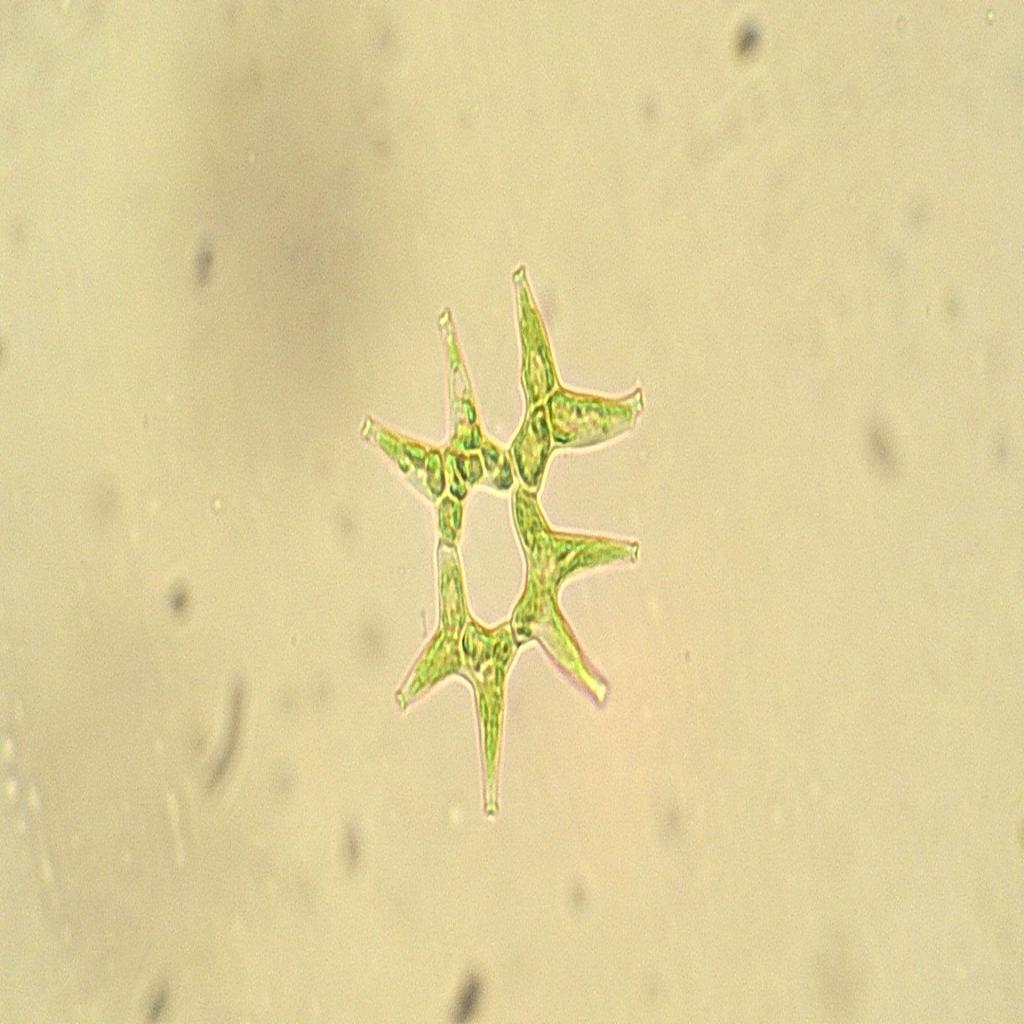Pediastrum_75FI: (357, 244, 647, 844)
